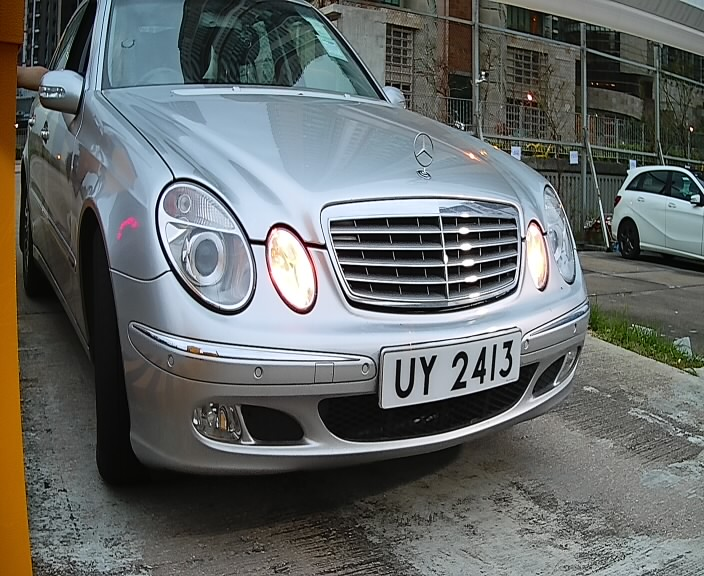Car: (21, 7, 616, 515)
License Plate: (370, 322, 529, 418)
